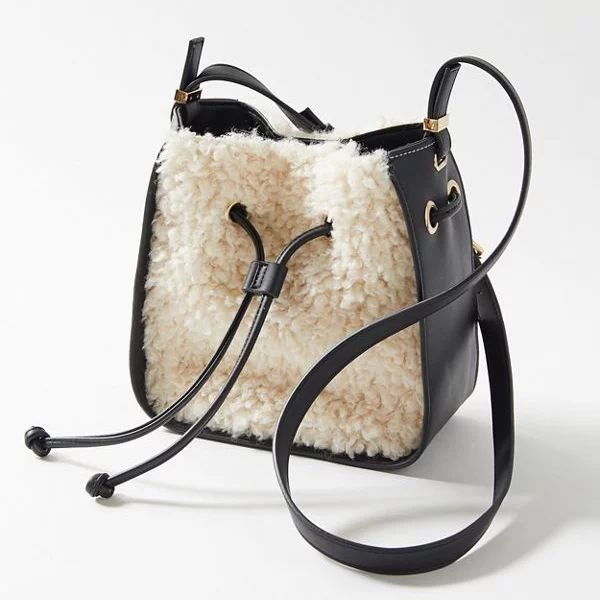cuero: (25, 35, 532, 575)
